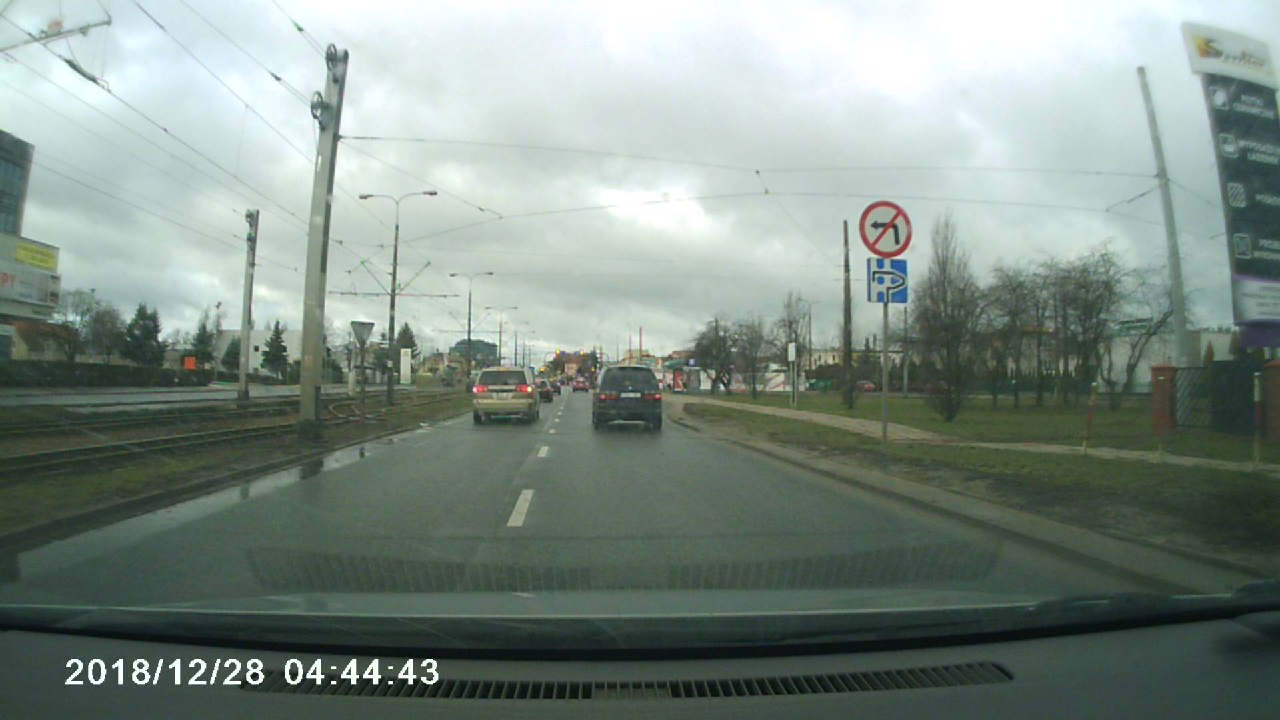B21: (853, 198, 915, 257)
